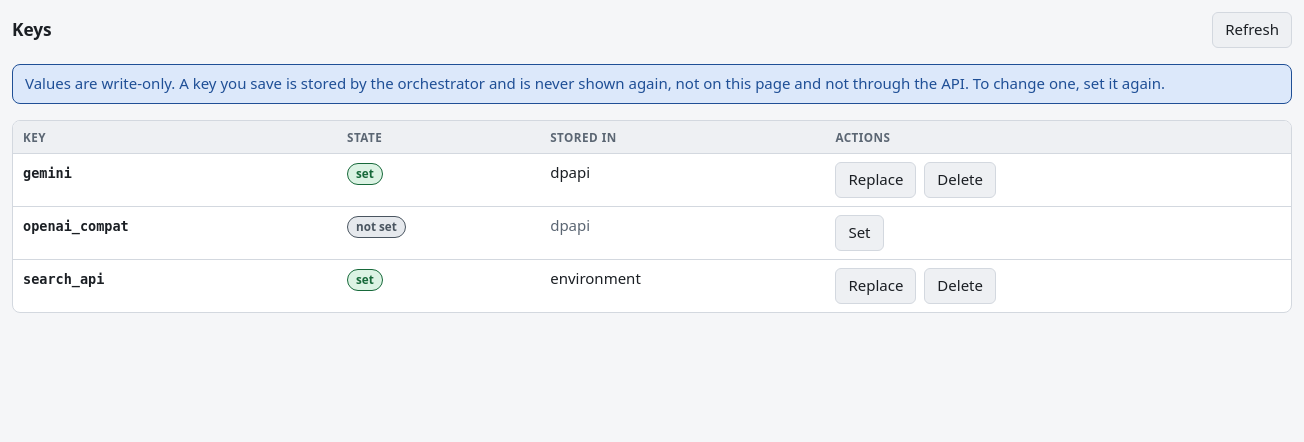
Test: setting a key › an empty submit asks for a value and sends nothing
Check: the text "gemini" is shown, box 23,166 -> 72,182
Step 1. Click the button "Set" → (859, 233), box 835,215 -> 884,251
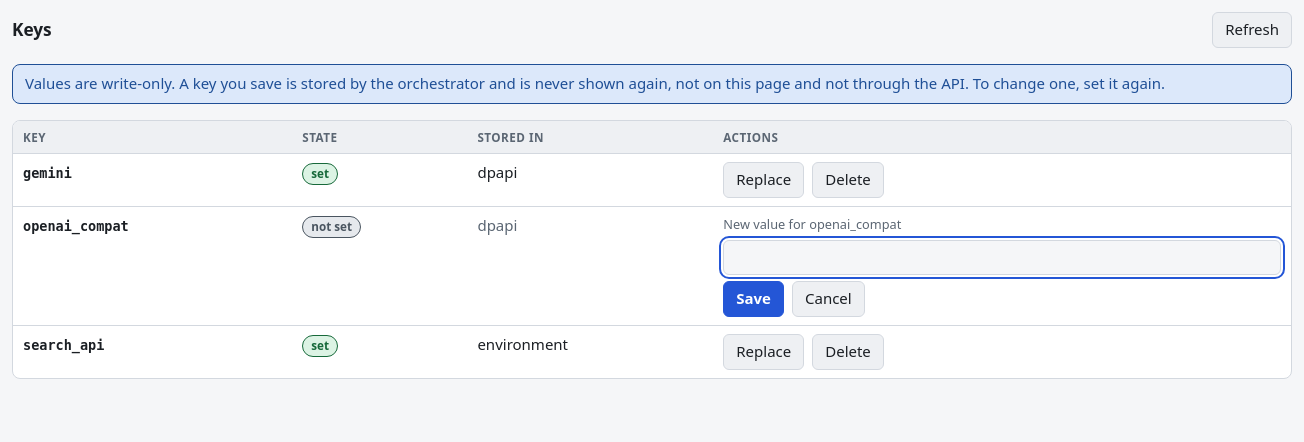
Step 2. Submit the form, box 723,215 -> 1281,317
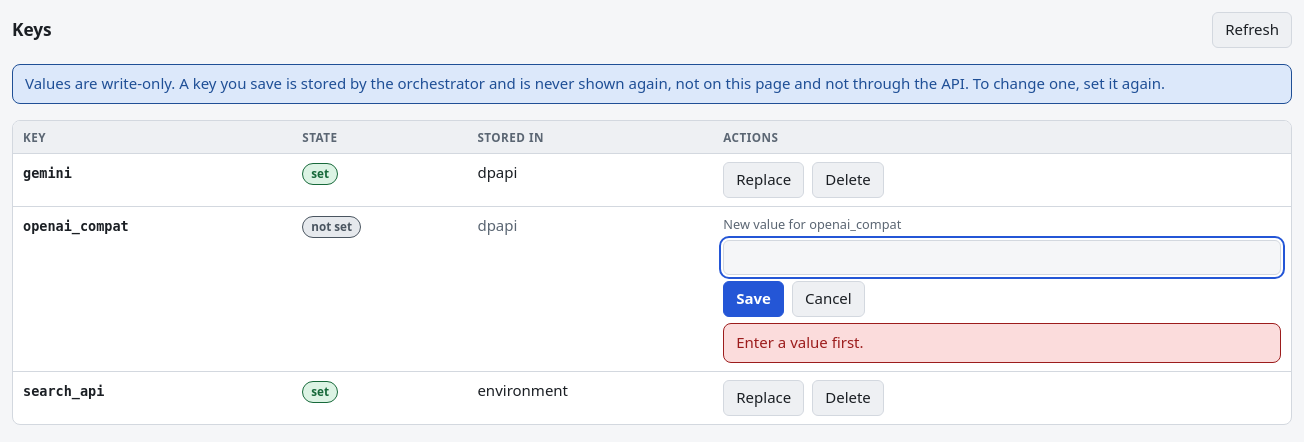
Check: the message "Enter a value first." is shown, box 723,323 -> 1281,363
